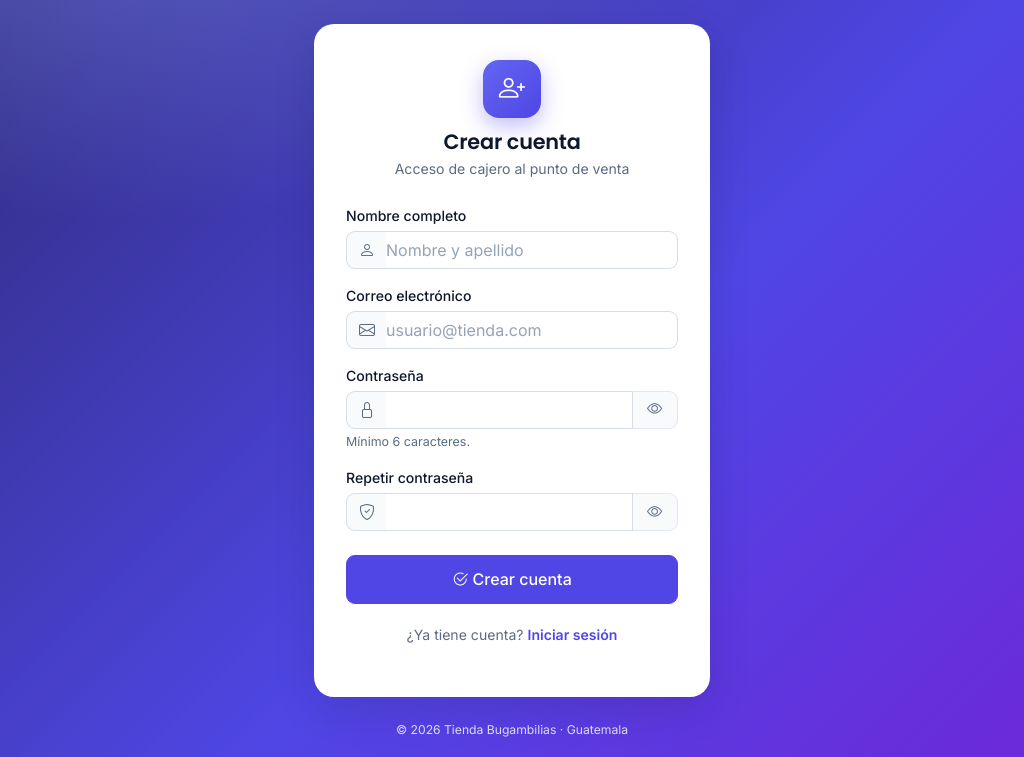
Test: Registro › registro correcto: no envía rol ni la confirmación y vuelve al login con aviso
This screenshot has width=1024, height=757.
In the field labelled "Nombre completo": (532, 250) [386,231,678,269], type "Ana López"
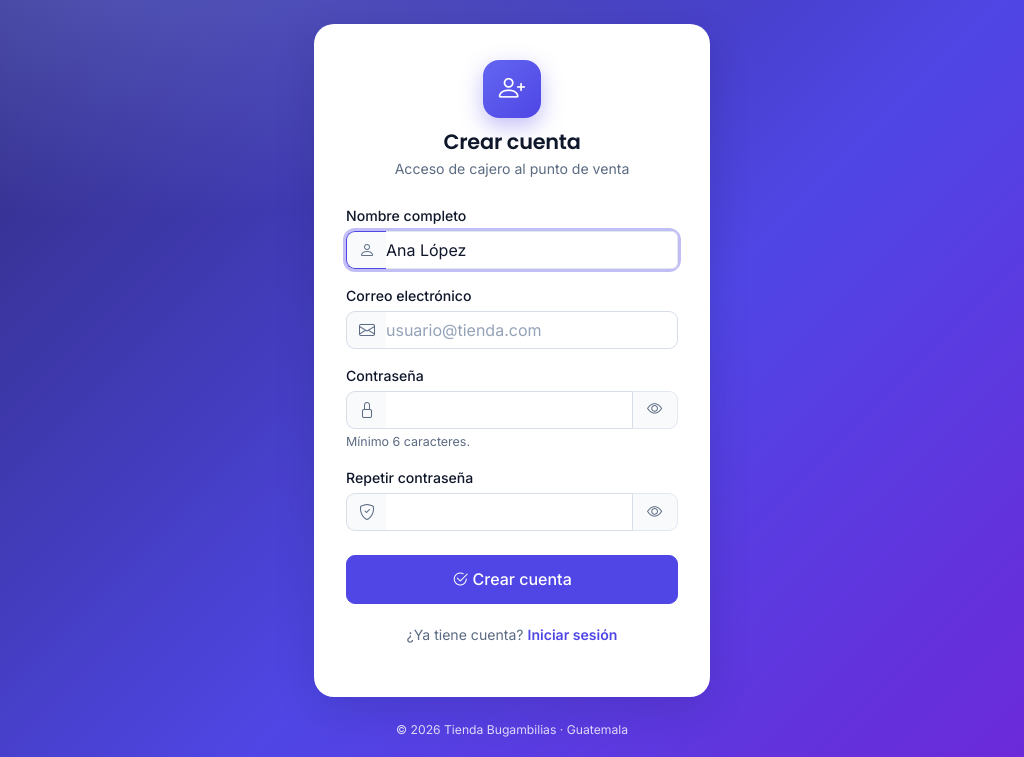
In the field labelled "Correo electrónico": (532, 330) [386,311,678,349], type "ana@tienda.com"
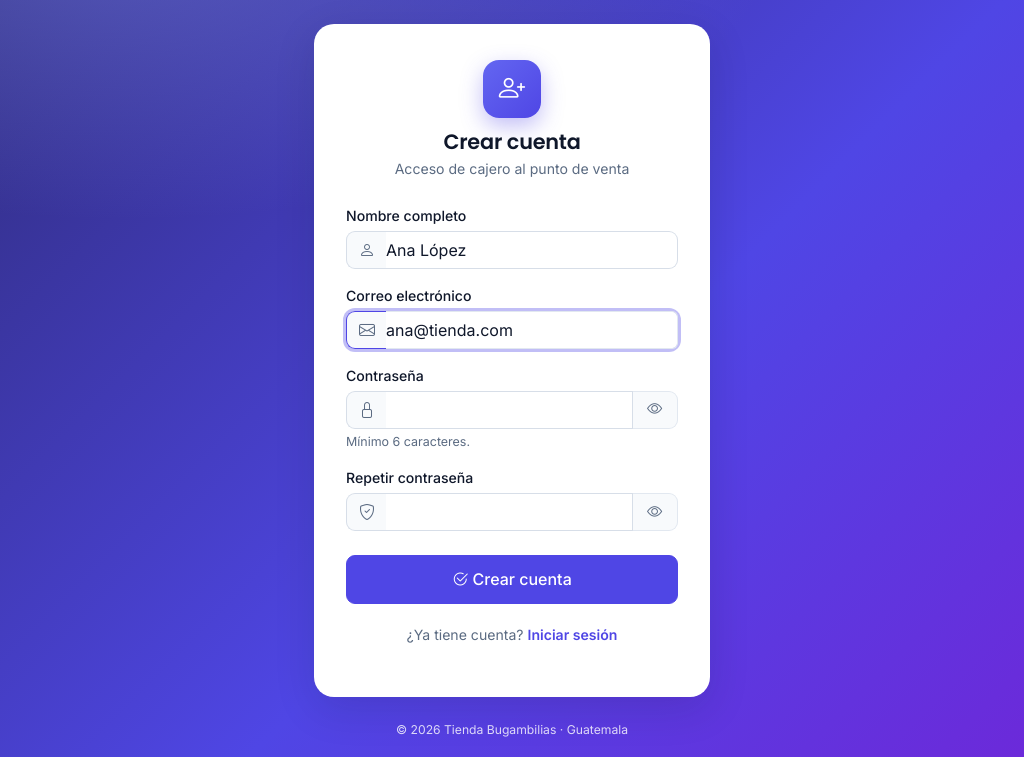
In the password field labelled "Contraseña": (510, 410) [386,391,633,429], type "secreto1"
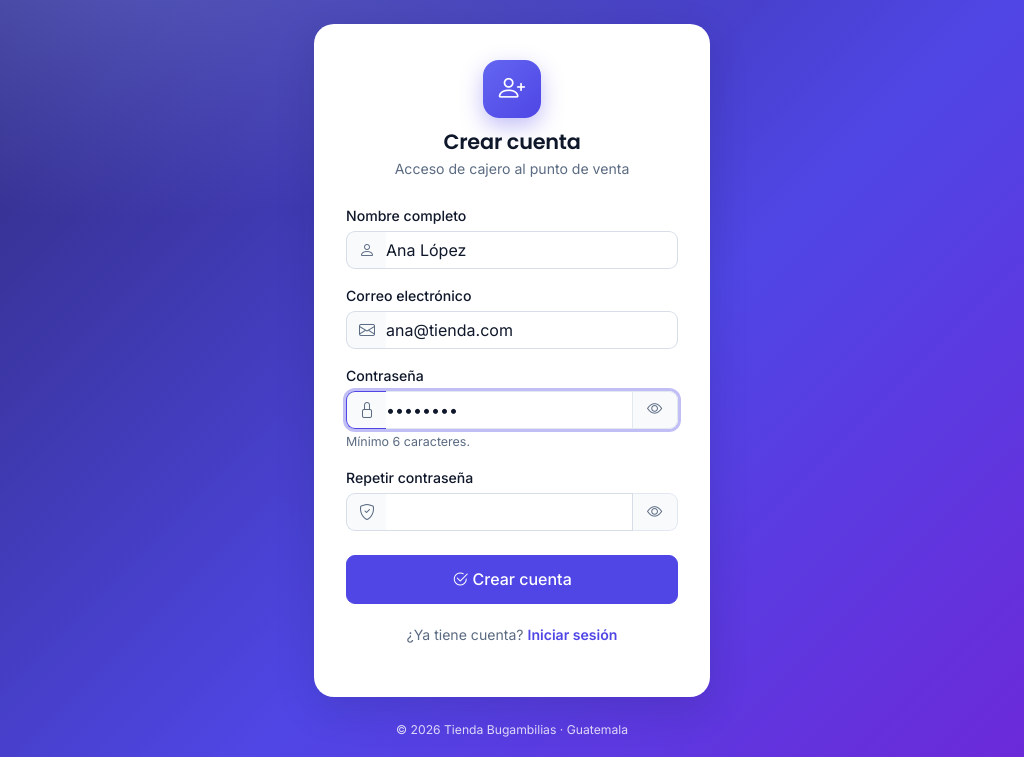
In the password field labelled "Repetir contraseña": (510, 512) [386,493,633,531], type "secreto1"
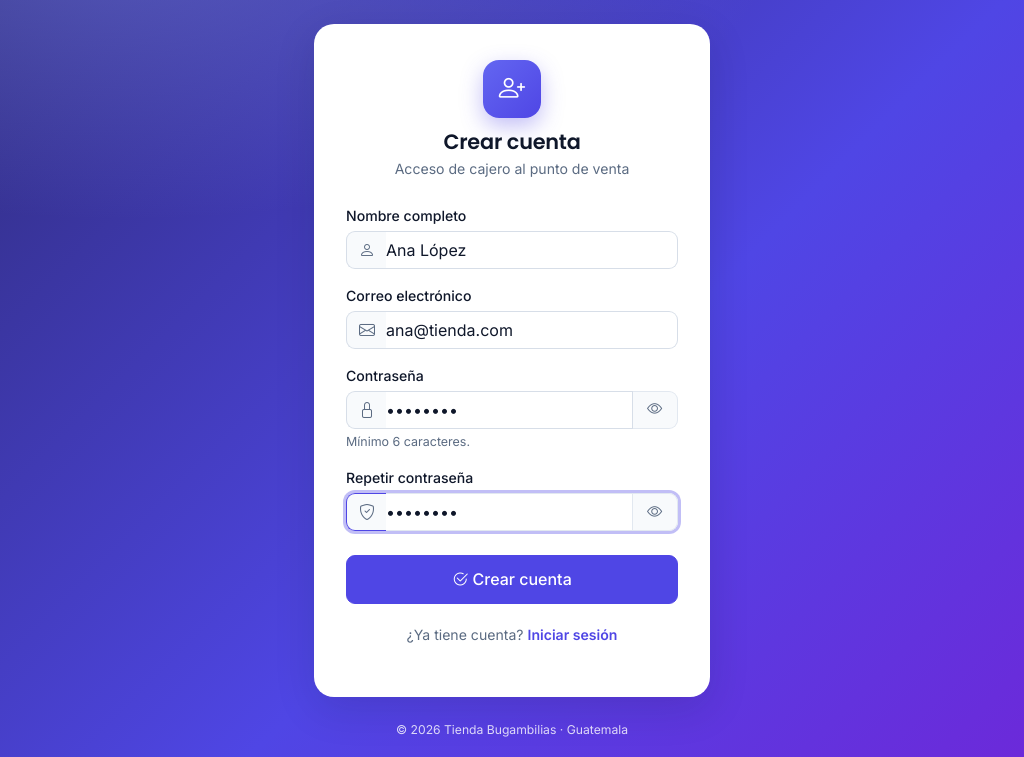
Click the button "Crear cuenta": click(512, 579) [346,555,678,604]
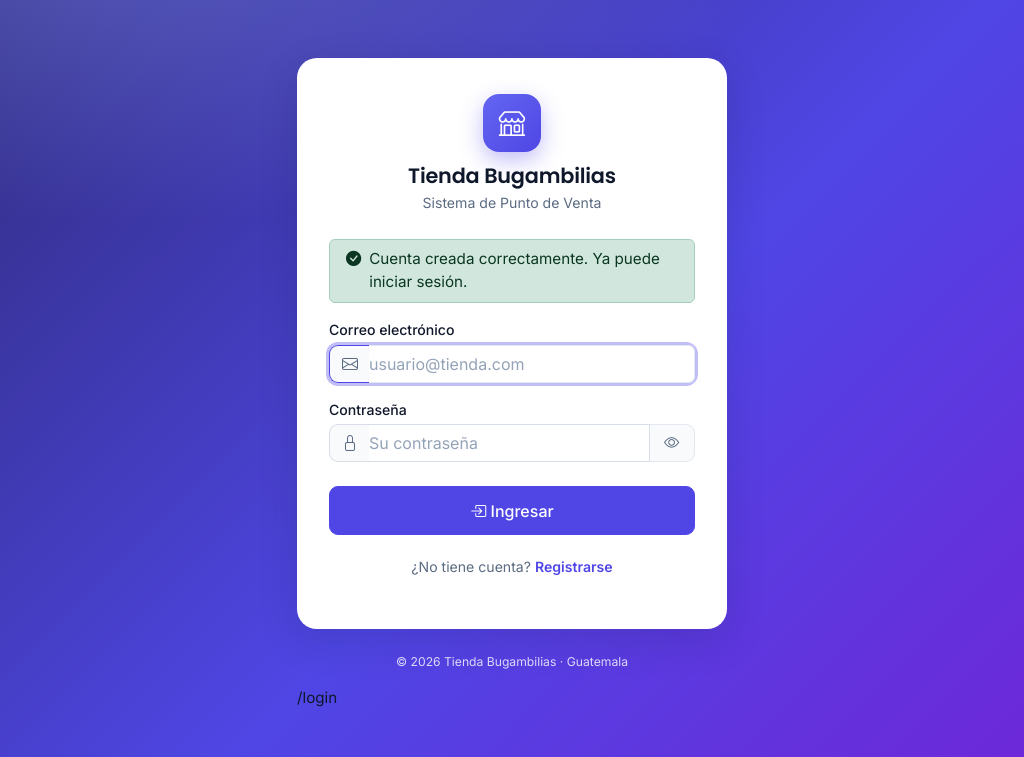
Expected: the text "Cuenta creada correctamente. Ya puede iniciar sesión." is shown, [369,248,678,294]
